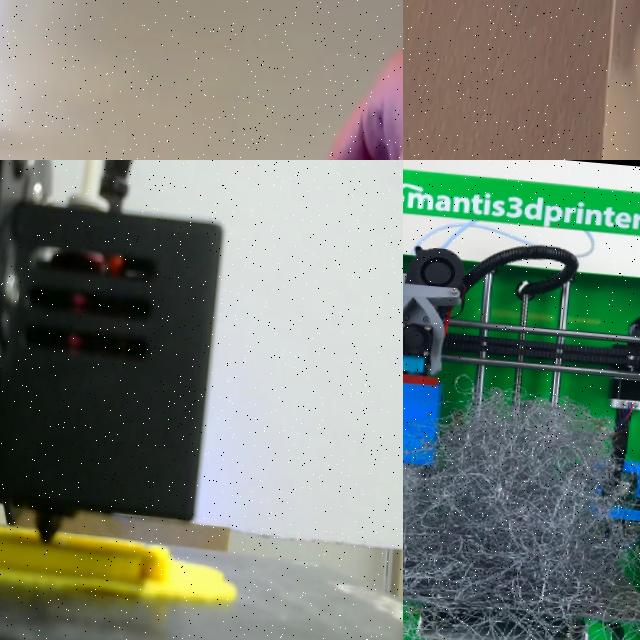spaghetti: (403, 392, 640, 640)
